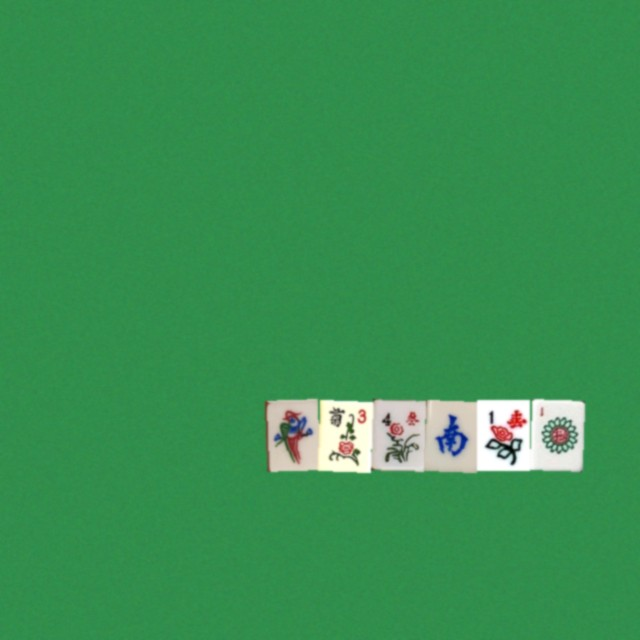tile: (264, 399, 317, 470), (317, 399, 370, 470), (370, 399, 423, 470), (423, 399, 476, 470), (476, 399, 529, 470), (529, 399, 582, 470)
